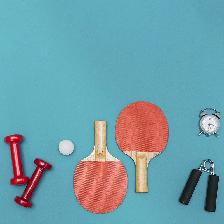WhiteBall: (57, 140, 74, 155)
